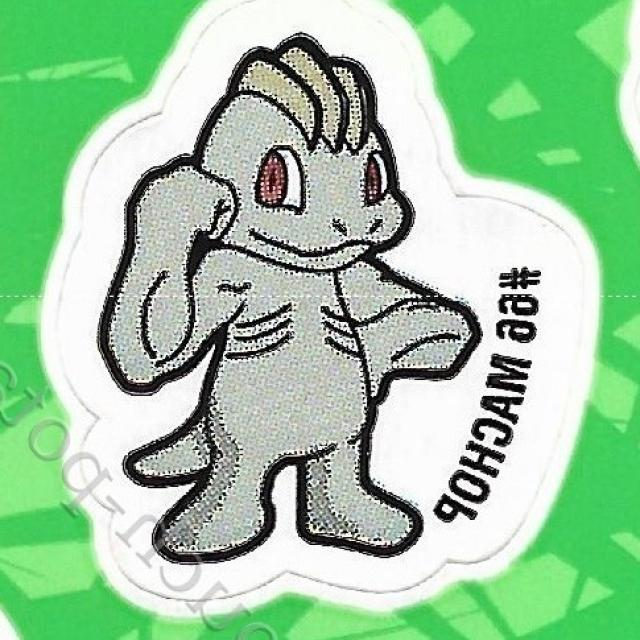Machop: (103, 36, 469, 570)
